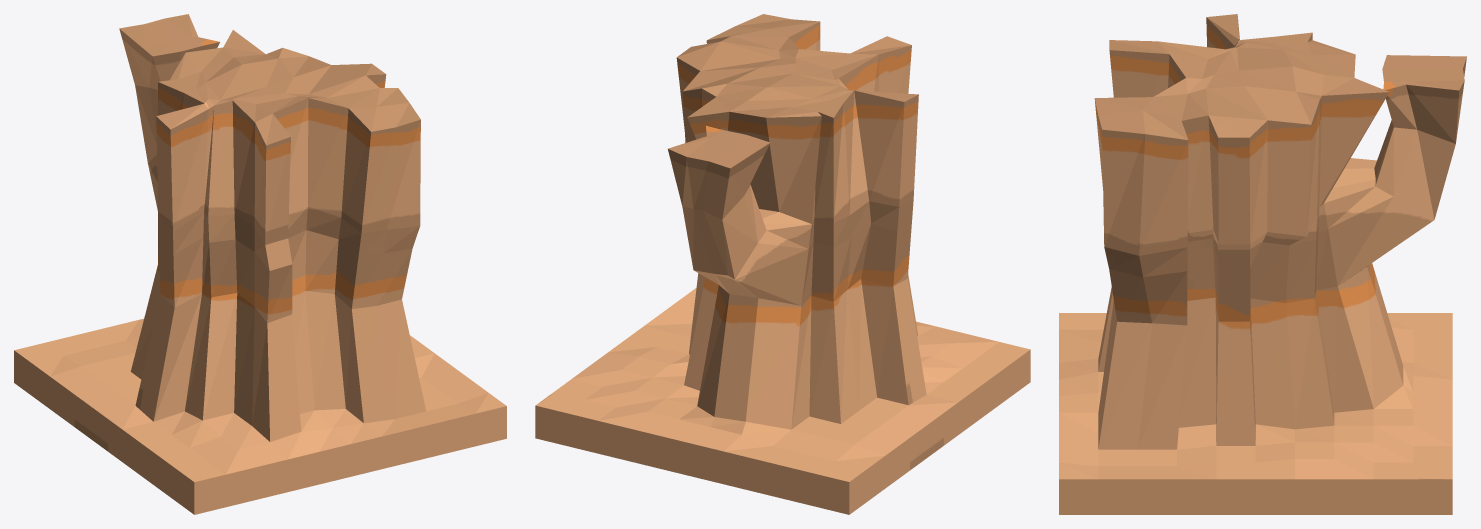
File: floorpillar.fbx
3 renders of one model, left to right at view 1: azimuth 30°, elevation 25°; view 2: azimuth 150°, elevation 25°; view 3: azimuth 270°, elevation 25°, orthographic. The views are drawn at different scales.
Parts seen in each view (by area): view 1: Cube; view 2: Cube; view 3: Cube.
Part boxes in pixels (x1,y1,x2,y2): Cube: (14, 14, 506, 514); Cube: (535, 14, 1030, 514); Cube: (1059, 14, 1466, 514).
Bounding box in the file's own units: 100 × 102 × 104.
Materials: 1 (1 with a texture image).
